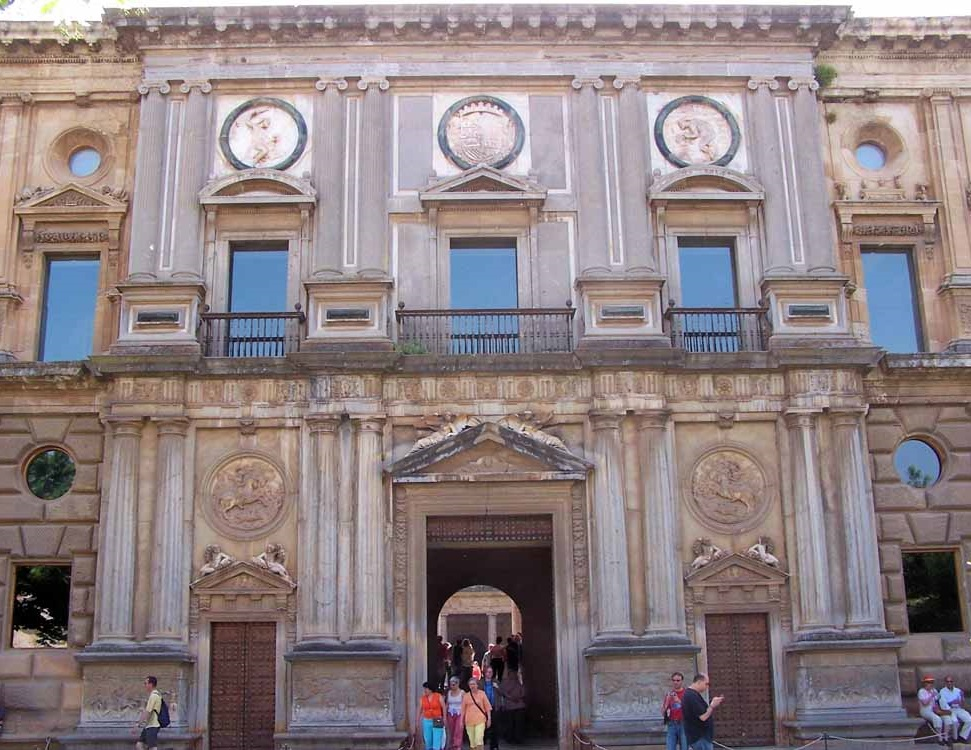fronton: (379, 416, 601, 490), (414, 161, 554, 206), (11, 178, 134, 220), (683, 547, 793, 592), (185, 556, 300, 598)
fronton-curvo: (195, 164, 322, 208), (645, 164, 768, 206)
ojo-de-buey: (16, 436, 82, 504), (891, 426, 953, 494), (53, 128, 109, 180)
vano-adintelado: (402, 492, 578, 749), (690, 600, 793, 750), (193, 606, 288, 750), (206, 226, 303, 361), (664, 220, 761, 353), (436, 223, 533, 355), (23, 240, 114, 368), (849, 232, 937, 358)
